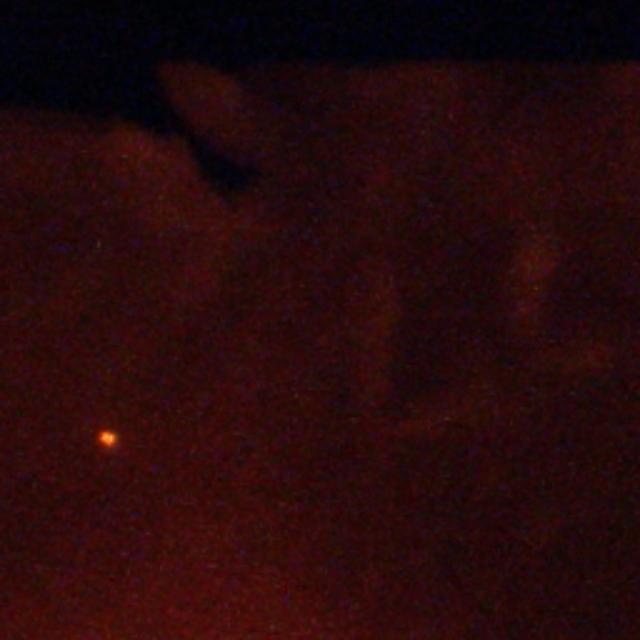Fragment: (98, 428, 122, 448)
